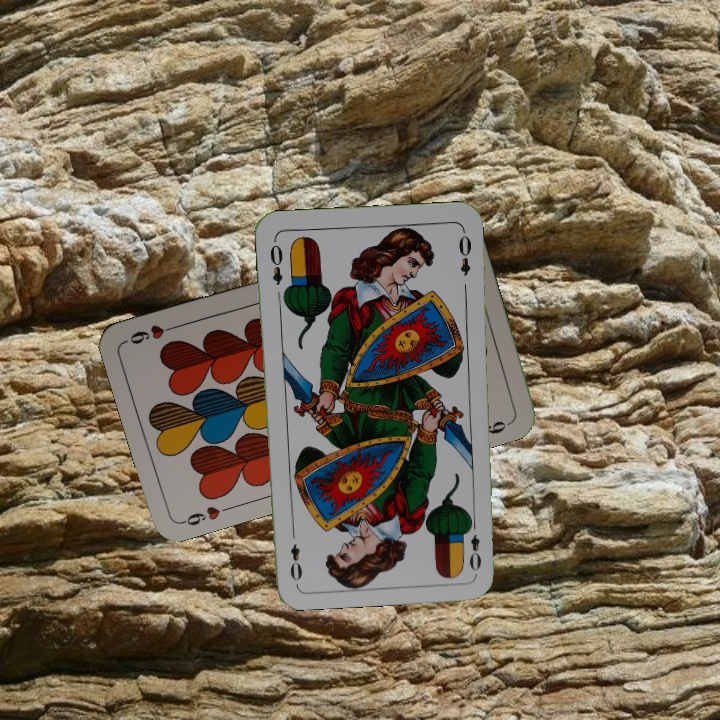EO: (463, 516, 484, 574), (266, 235, 286, 288)
H9: (177, 502, 235, 529)
